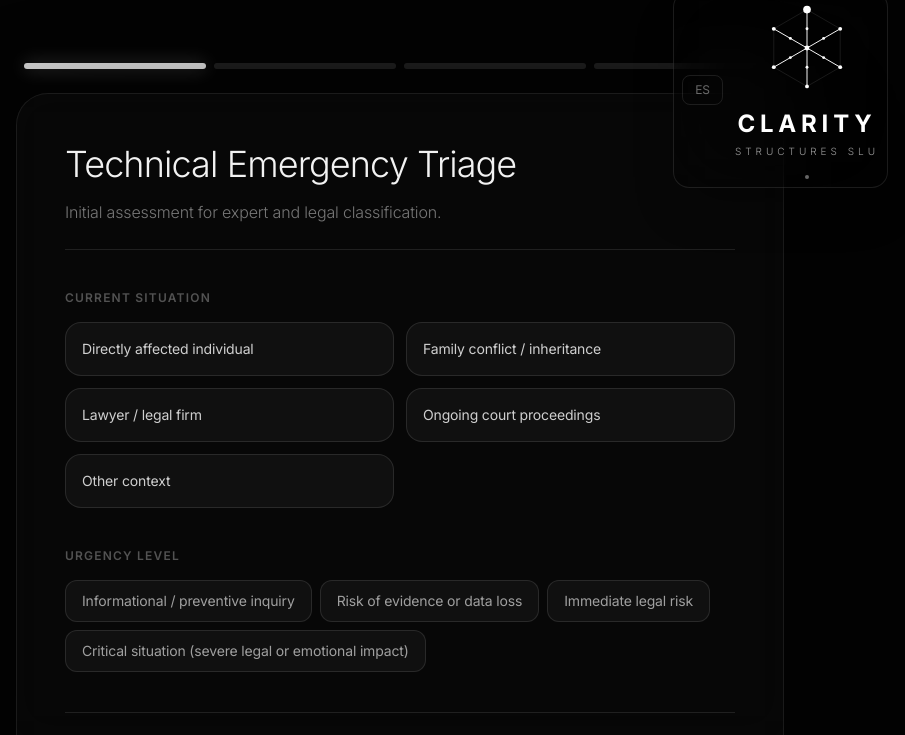
Test: Wizard i18n — English locale › navigates COGNITIVE → CONTEXT in English
Click the radio button "Directly affected individual" at (230, 349), box [65,322,394,376]
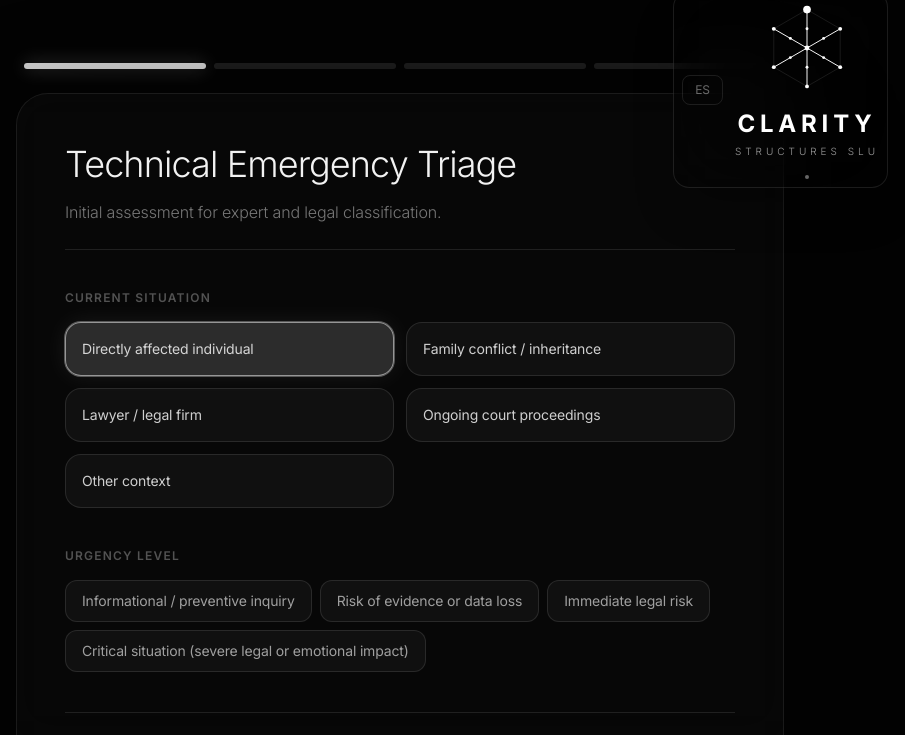
Click the radio button "Informational / preventive inquiry" at (188, 601), box [65,580,312,622]
(page scrolled)
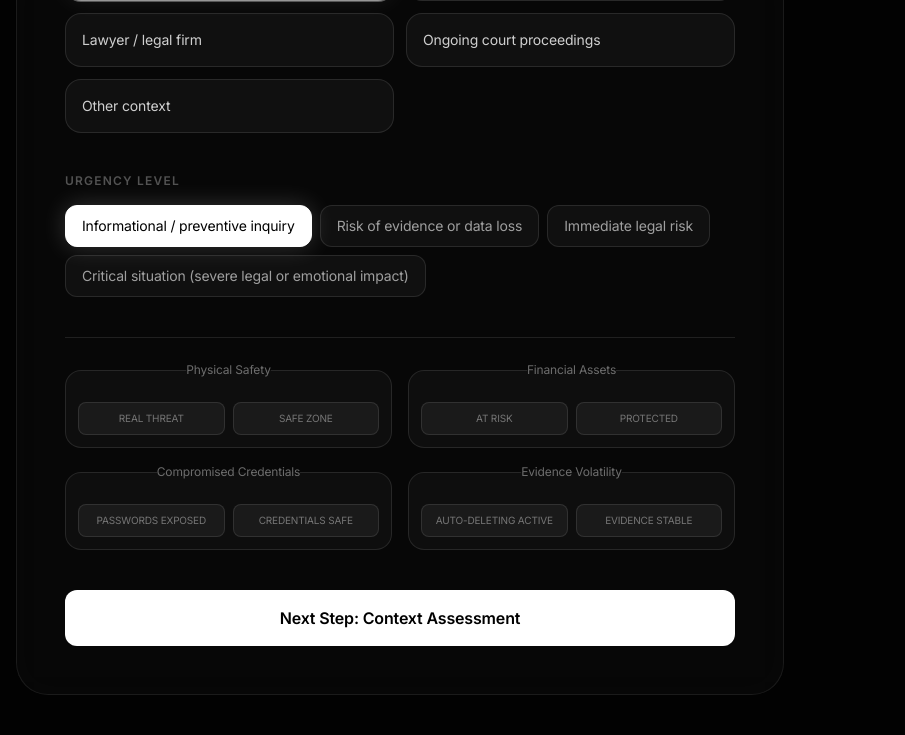
Click the button "Next Step: Context Assessment" at (400, 618), box [65,590,735,646]
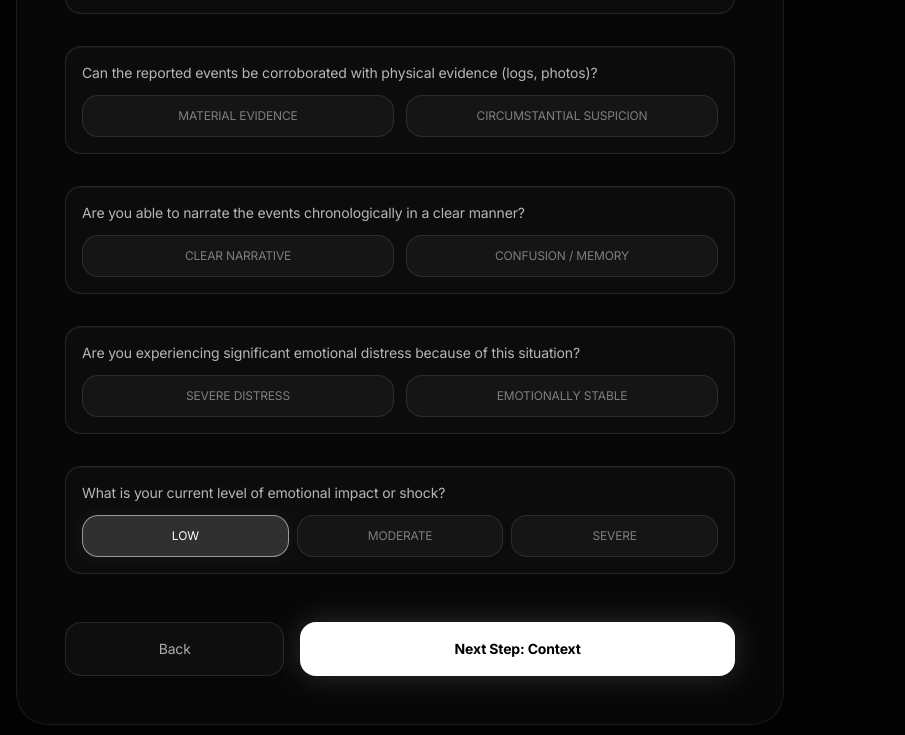
# COGNITIVE → CONTEXT
Click the button "Next Step: Context" at (518, 649), box [300,622,735,676]
(page scrolled)
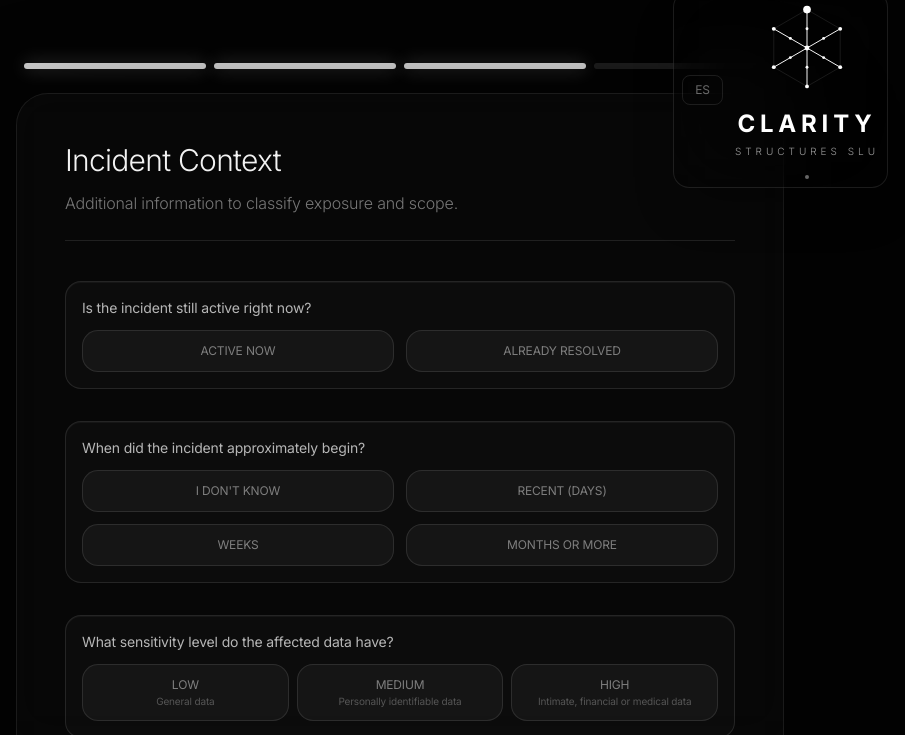
Expected: the heading "Incident Context" is shown, [65,142,281,178]
Expected: the heading "Is the incident still active right now?" is shown, [82,299,311,316]
Expected: the radio button "ACTIVE NOW" is shown, [82,330,394,372]
